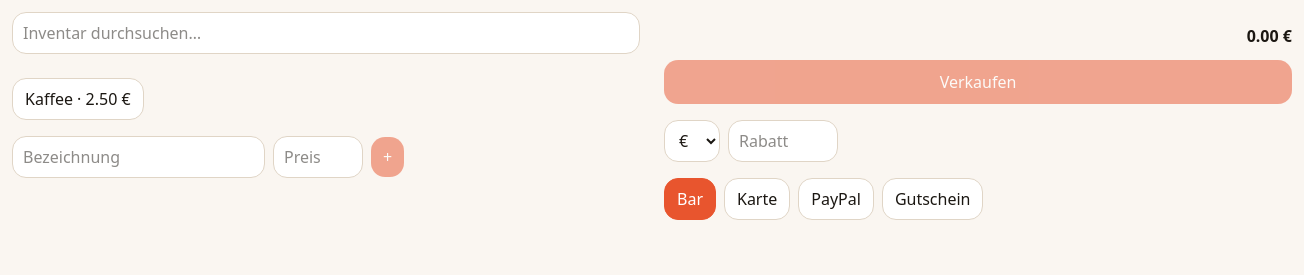
KasseScreen › applies a percent discount via kasse-discount-mode (integer-cent math)
Click the button with test id "kasse-quick-item-7" at (78, 99), box [12, 78, 144, 120]
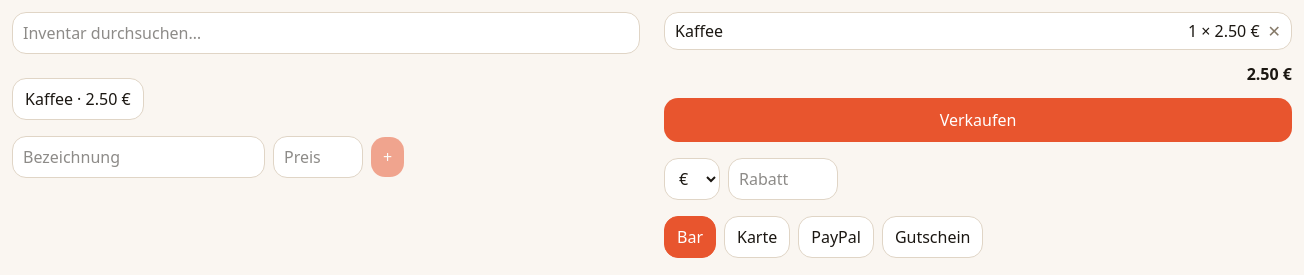
Select "%" in the dropdown with test id "kasse-discount-mode" at (692, 179), box [664, 158, 720, 200]
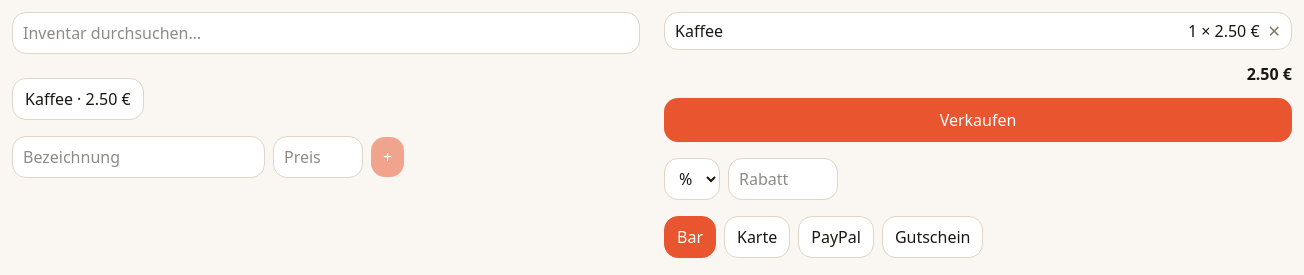
Type "10" into the field with test id "kasse-discount-input" at (783, 179), box [728, 158, 838, 200]
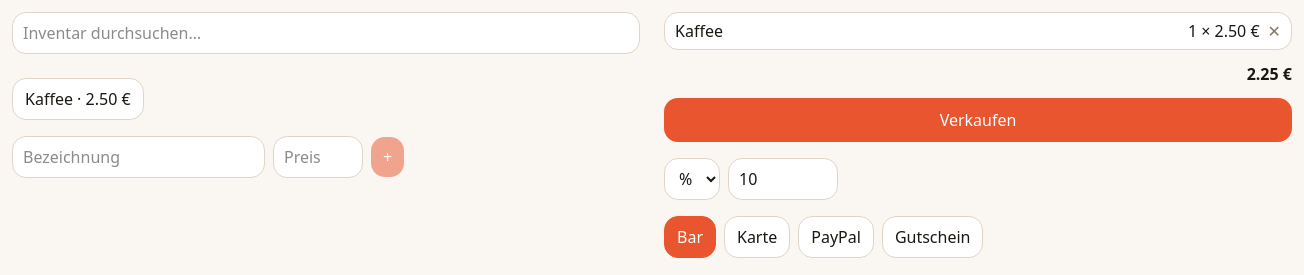
Now the text with test id "kasse-total" shows "2.25", box [1247, 63, 1279, 85]
